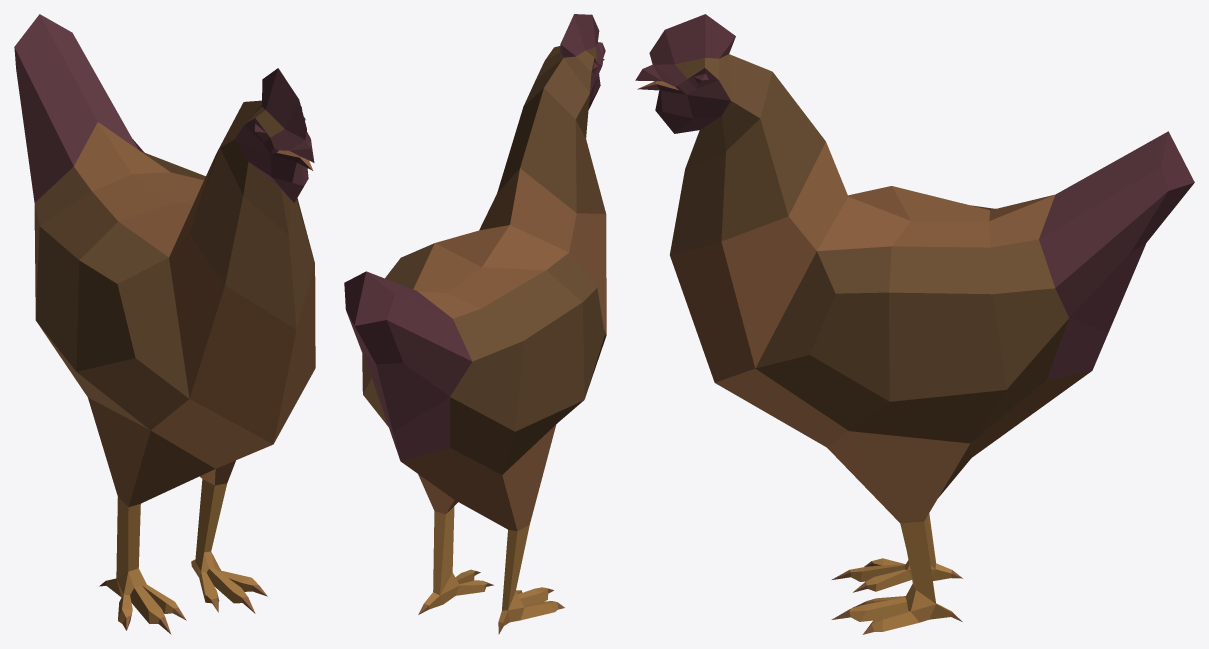
File: hen.fbx
The picture shows the model from 3 angles, left to right: view 1: azimuth 30°, elevation 25°; view 2: azimuth 150°, elevation 25°; view 3: azimuth 270°, elevation 25°; orthographic projection. The views are drawn at different scales.
Visible parts, largest first — view 1: hen; view 2: hen; view 3: hen.
Part boxes in pixels (x1,y1,x2,y2): hen: (14, 14, 315, 634); hen: (344, 14, 606, 634); hen: (635, 14, 1194, 634).
Bounding box in the file's own units: 0.2027 × 0.5486 × 0.4737.
